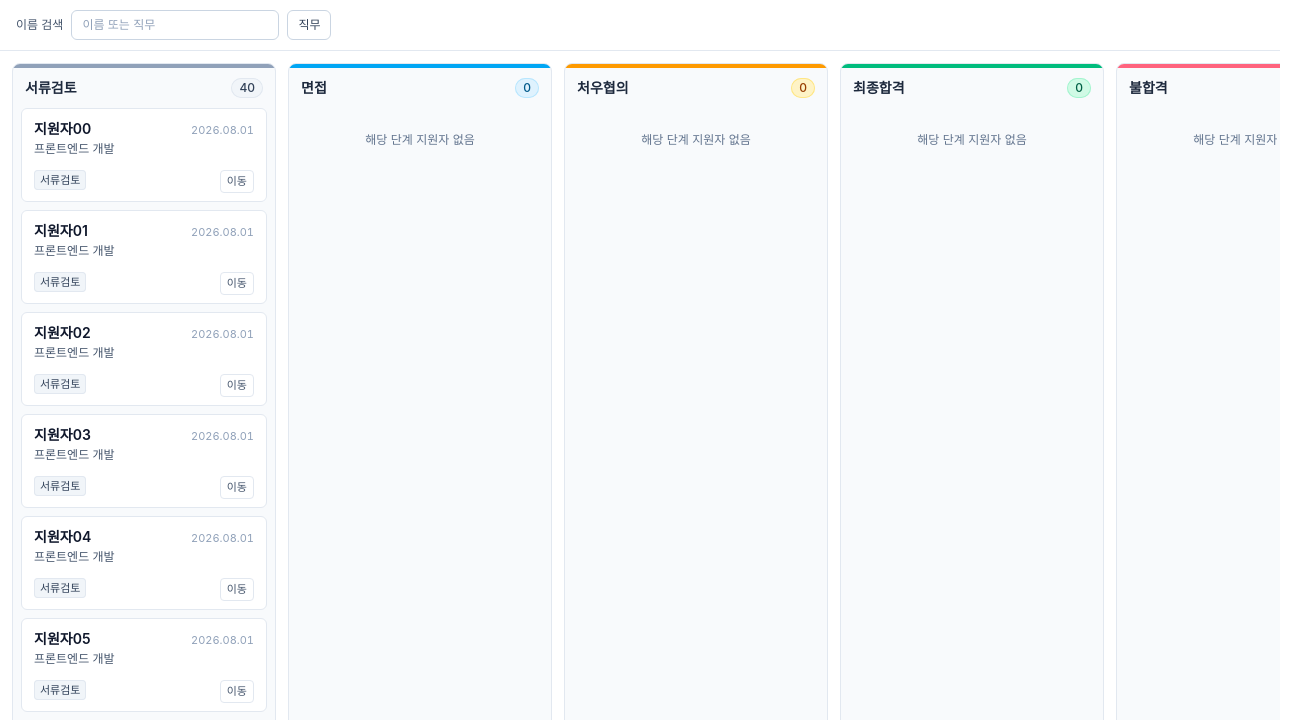
Scenario: 가상 스크롤 › 필터를 적용하면 가상 목록이 새 결과에 맞춰진다
In the search field labelled "이름 검색": (175, 25) [71,10,279,40], type "지원자03"
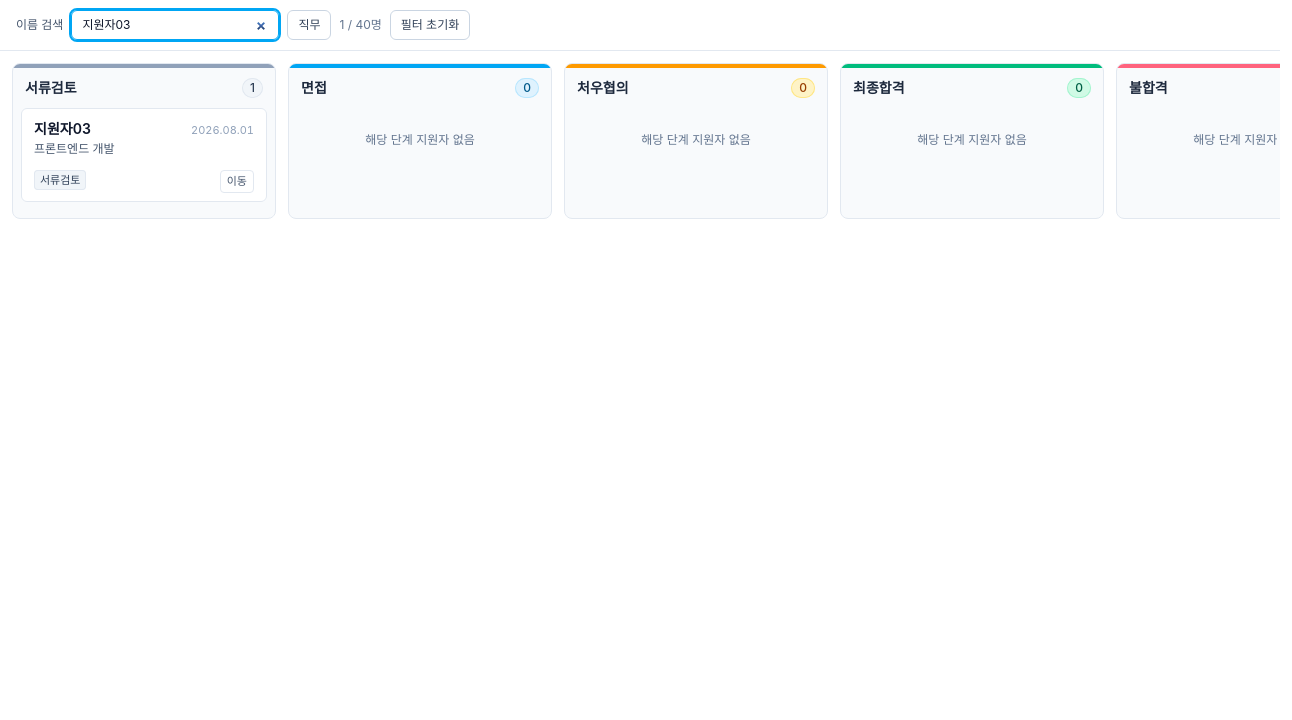
Expected: the element named "서류검토 1명" is shown, [12,63,276,219]
Expected: the number of list items is 1, [21,108,267,210]
